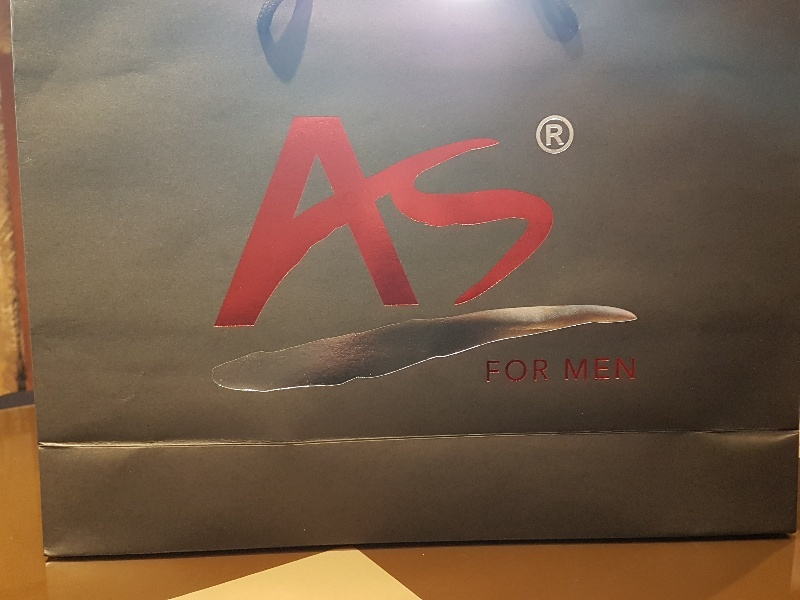text: (305, 112, 320, 333), (321, 112, 336, 333), (337, 112, 352, 333), (353, 112, 368, 333), (369, 112, 384, 333), (385, 112, 400, 333), (401, 112, 416, 333), (417, 112, 432, 333), (433, 112, 448, 333), (449, 112, 464, 333), (465, 112, 480, 333), (481, 112, 496, 333), (497, 112, 512, 333), (513, 112, 528, 333), (529, 112, 544, 333), (545, 112, 560, 333), (292, 112, 304, 333), (561, 112, 563, 333), (545, 123, 560, 147), (497, 359, 512, 383), (513, 359, 528, 383), (529, 359, 544, 383), (577, 357, 592, 381), (593, 357, 608, 381), (609, 357, 624, 381), (565, 357, 576, 381), (625, 357, 636, 381), (487, 359, 496, 383), (545, 359, 550, 383), (561, 123, 565, 147)
